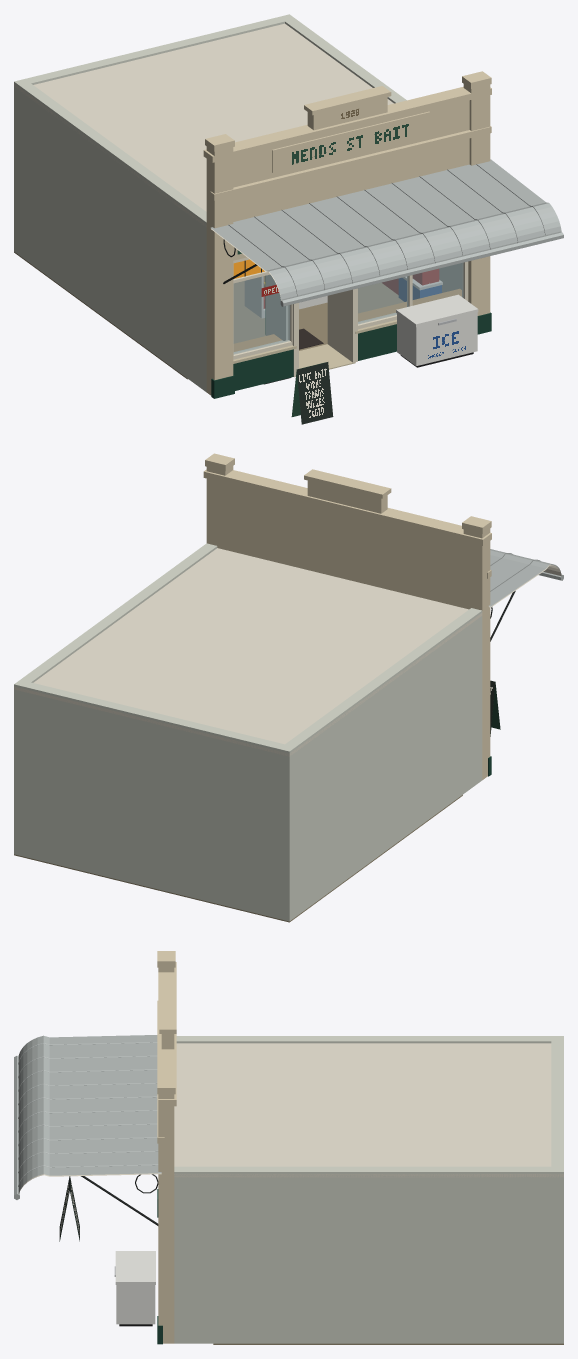
Rendered from shop_tackle.glb.
The picture shows the model from 3 angles, top to bottom: view 1: azimuth 30°, elevation 25°; view 2: azimuth 150°, elevation 25°; view 3: azimuth 270°, elevation 25°; orthographic projection.
Visible parts, largest first — view 1: ShopTackle; view 2: ShopTackle; view 3: ShopTackle.
Part boxes in pixels (x1,y1,x2,y2): ShopTackle: [14, 14, 563, 424]; ShopTackle: [14, 453, 563, 922]; ShopTackle: [14, 951, 563, 1344].
Size of what is drawn, in the model's own units: 5.7 by 5.12 by 9.57.
52 materials, 17 textured.
